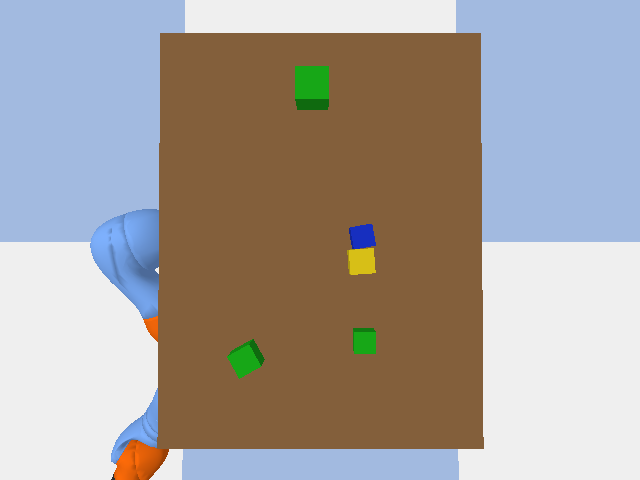blue_obj: (349, 224, 375, 248)
green_obj: (227, 339, 264, 378), (295, 66, 328, 109), (353, 328, 375, 353)
yellow_obj: (347, 248, 375, 274)
